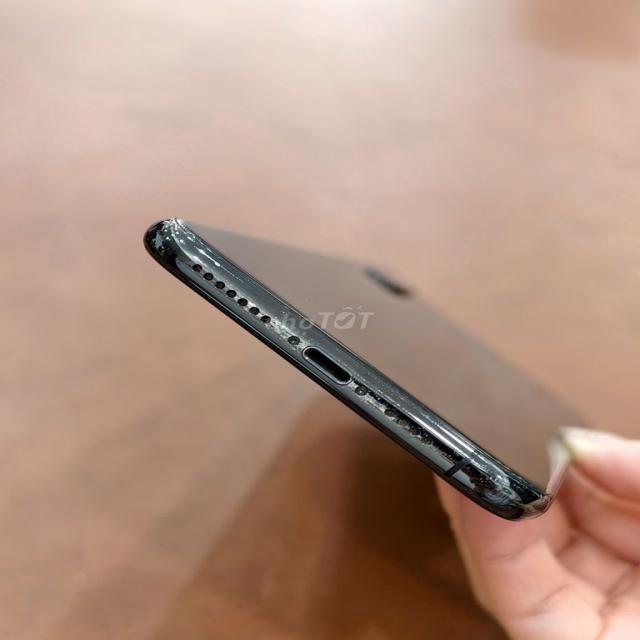gen_x_xs: (125, 208, 617, 520)
scratch: (296, 333, 548, 509), (152, 221, 317, 363)
